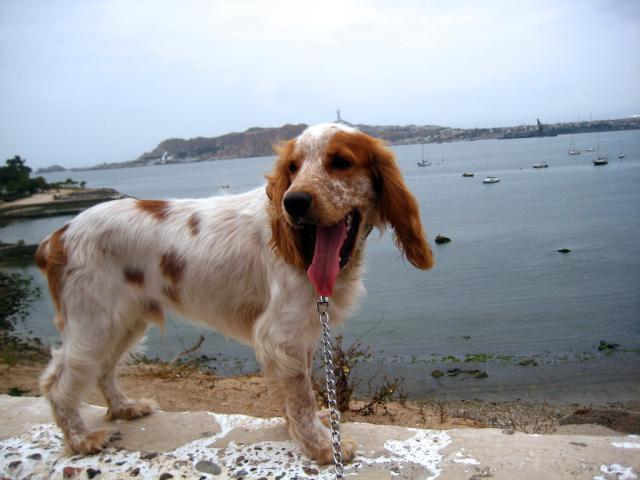Dog: (34, 121, 434, 464)
